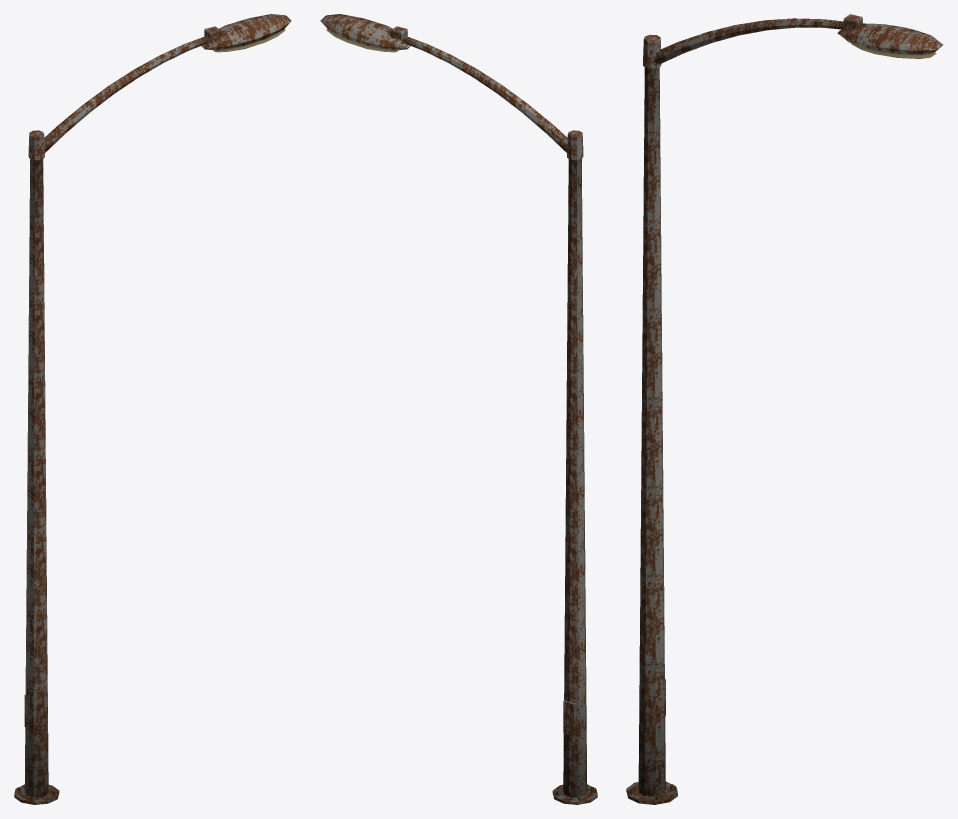
The model's file is street_lamp.glb.
3 renders of one model, left to right at view 1: azimuth 30°, elevation 25°; view 2: azimuth 150°, elevation 25°; view 3: azimuth 330°, elevation 25°, orthographic. The views are drawn at different scales.
Parts seen in each view (by area): view 1: street_lamp_galvanized; view 2: street_lamp_galvanized; view 3: street_lamp_galvanized.
Part boxes in pixels (x1,y1,x2,y2): street_lamp_galvanized: [14, 14, 291, 804]; street_lamp_galvanized: [320, 14, 597, 804]; street_lamp_galvanized: [626, 14, 942, 804].
Bounding box in the file's own units: 3.67 × 9.34 × 0.54.
Materials: 2 (1 with a texture image).
